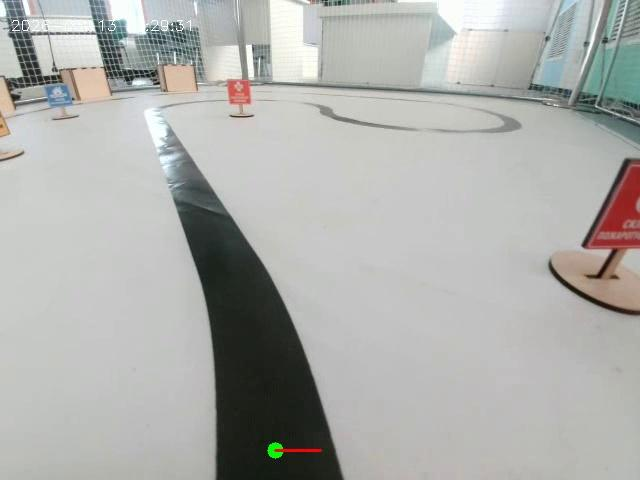flood: (31, 77, 95, 127)
industrial: (0, 94, 32, 170)
medical: (225, 70, 270, 133)
